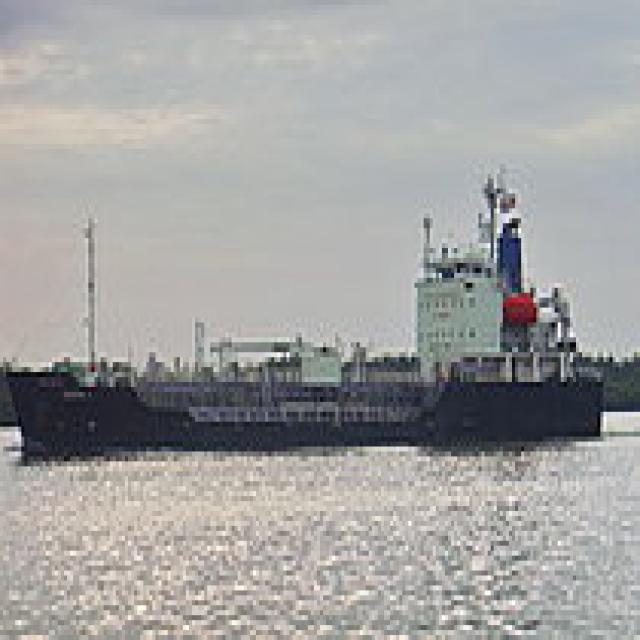Tanker: (3, 154, 603, 442)
